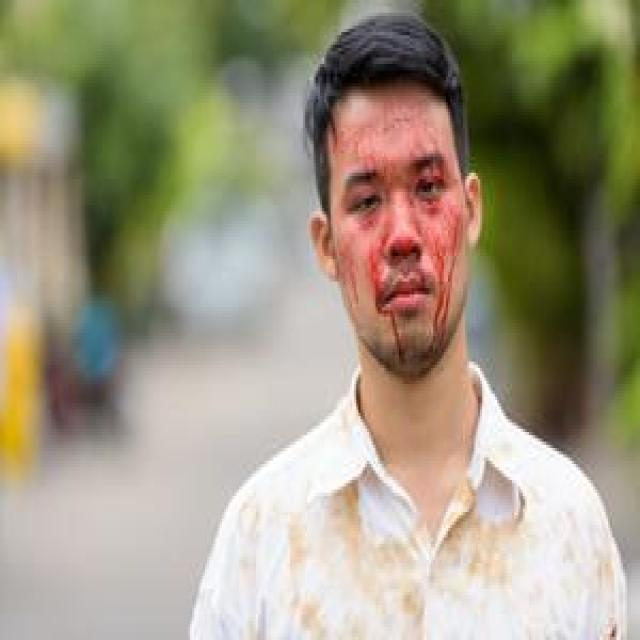flood: (370, 256, 458, 363)
